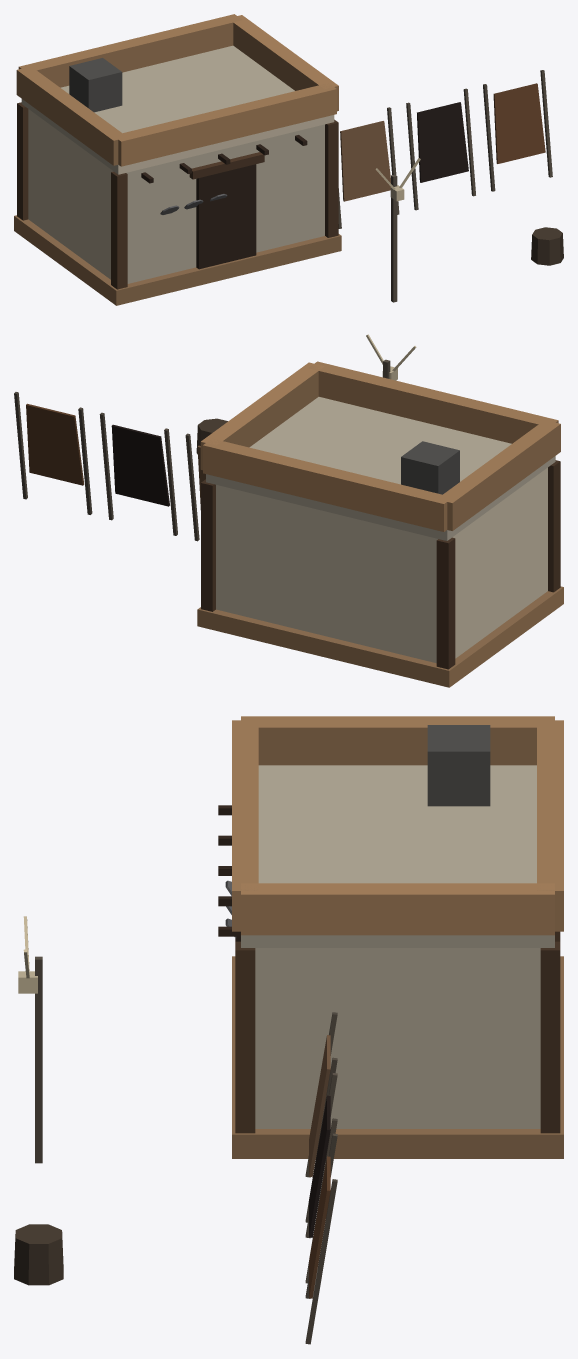
The model's file is walk_sunborn_trapper.glb.
The picture shows the model from 3 angles, top to bottom: view 1: azimuth 30°, elevation 25°; view 2: azimuth 150°, elevation 25°; view 3: azimuth 270°, elevation 25°; orthographic projection. The views are drawn at different scales.
Visible parts, largest first — view 1: walk_sunborn_trapper, walk_sunborn_trapper_roof; view 2: walk_sunborn_trapper, walk_sunborn_trapper_roof; view 3: walk_sunborn_trapper, walk_sunborn_trapper_roof.
Part boxes in pixels (left/top/right/bottom): walk_sunborn_trapper: left=14, top=70, right=563, bottom=305; walk_sunborn_trapper_roof: left=16, top=14, right=338, bottom=174; walk_sunborn_trapper: left=14, top=334, right=563, bottom=687; walk_sunborn_trapper_roof: left=200, top=361, right=560, bottom=540; walk_sunborn_trapper: left=14, top=805, right=563, bottom=1344; walk_sunborn_trapper_roof: left=232, top=716, right=563, bottom=947.
Size of what is drawn, in the model's own units: 9.58 by 3.56 by 6.13.
2 materials, 2 textured.
